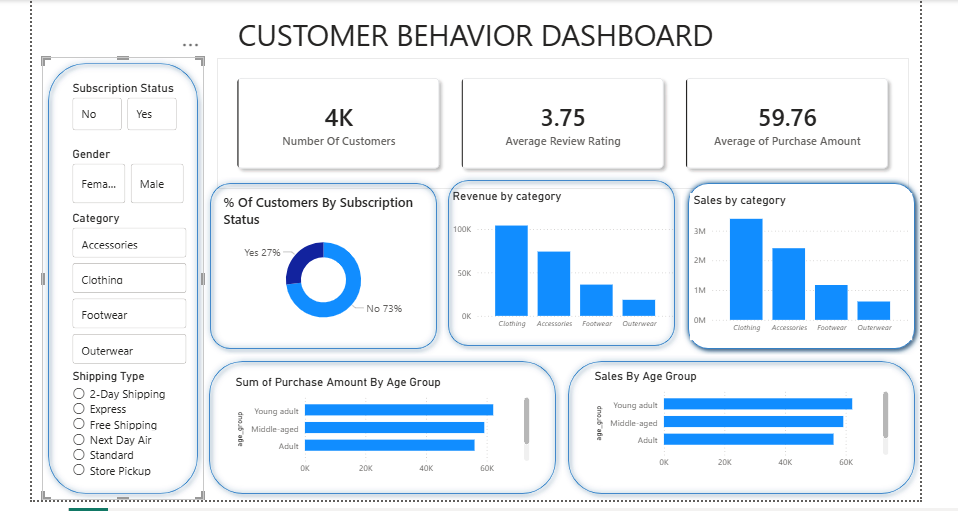

What the dashboard file says about the page in this screenshot:
{"tool":"powerbi","page":{"name":"Page 1","canvas":[1280,720],"ordinal":0},"visuals":[{"type":"textbox","box":[28.8,15.8,1219.7,73.4],"z":0},{"type":"cardVisual","fields":{"Data":["customer_behavior customer.Number Of Customers","customer_behavior customer.Average Review Rating","customer_behavior customer.Average of Purchase Amount"]},"box":[266.4,83.5,996.5,188.6],"z":1000},{"type":"donutChart","title":"% Of Customers By Subscription Status","fields":{"Category":["customer_behavior customer.subscription_status"],"Y":["CountNonNull(customer_behavior customer.customer_id)"]},"box":[270.7,277.9,298.1,200.2],"z":2000},{"type":"shape","box":[935.8,254.9,344.2,256.3],"z":3000},{"type":"clusteredColumnChart","title":"Revenue by category","fields":{"Y":["Sum(customer_behavior customer.purchase_amount)"],"Category":["customer_behavior customer.category"]},"box":[600.5,272.2,328.3,211.7],"z":4000},{"type":"clusteredColumnChart","title":"Sales by category","fields":{"Y":["Sum(customer_behavior customer.customer_id)"],"Category":["customer_behavior customer.category"]},"box":[947.5,277.9,319.7,211.7],"z":5000},{"type":"advancedSlicerVisual","fields":{"Values":["customer_behavior customer.subscription_status"]},"box":[53.3,116.6,161.3,76.3],"z":6000},{"type":"advancedSlicerVisual","fields":{"Values":["customer_behavior customer.gender"]},"box":[53.3,211.7,171.4,86.4],"z":7000},{"type":"listSlicer","fields":{"Values":["customer_behavior customer.shipping_type"]},"box":[53.3,531.4,172.8,161.3],"z":8000},{"type":"shape","box":[247.7,254.9,344.2,256.3],"z":9000},{"type":"shape","box":[590.4,250.6,344.2,256.3],"z":10000},{"type":"advancedSlicerVisual","fields":{"Values":["customer_behavior customer.category"]},"box":[53.3,303.8,174.2,227.5],"z":11000},{"type":"clusteredBarChart","title":"Sum of Purchase Amount By Age Group","fields":{"Y":["Sum(customer_behavior customer.purchase_amount)"],"Category":["customer_behavior customer.age_group"]},"box":[288,540,433.4,152.6],"z":12000},{"type":"shape","box":[246.2,511.2,517,208.8],"z":13000},{"type":"shape","box":[763.2,511.2,517,208.8],"z":14000},{"type":"clusteredBarChart","title":"Sales By Age Group","fields":{"Y":["Sum(customer_behavior customer.purchase_amount)"],"Category":["customer_behavior customer.age_group"]},"box":[805,531.4,433.4,152.6],"z":15000},{"type":"shape","box":[14.4,82.1,233.3,637.9],"z":16000}]}

Visuals, with their boxes in screenshot pixels (x1, y1, x2, y2):
textbox: [40, 0, 895, 50]
cardVisual - customer_behavior customer.Number Of Customers x customer_behavior customer.Average Review Rating: [207, 46, 905, 178]
"% Of Customers By Subscription Status" donutChart: [210, 182, 418, 322]
shape: [675, 166, 917, 346]
"Revenue by category" clusteredColumnChart: [441, 178, 671, 327]
"Sales by category" clusteredColumnChart: [684, 182, 908, 330]
advancedSlicerVisual - customer_behavior customer.subscription_status: [57, 69, 170, 123]
advancedSlicerVisual - customer_behavior customer.gender: [57, 136, 177, 196]
listSlicer - customer_behavior customer.shipping_type: [57, 360, 178, 473]
shape: [193, 166, 435, 346]
shape: [434, 163, 675, 343]
advancedSlicerVisual - customer_behavior customer.category: [57, 200, 179, 360]
"Sum of Purchase Amount By Age Group" clusteredBarChart: [222, 366, 525, 473]
shape: [192, 346, 555, 492]
shape: [555, 346, 917, 492]
"Sales By Age Group" clusteredBarChart: [584, 360, 887, 467]
shape: [30, 45, 193, 492]
